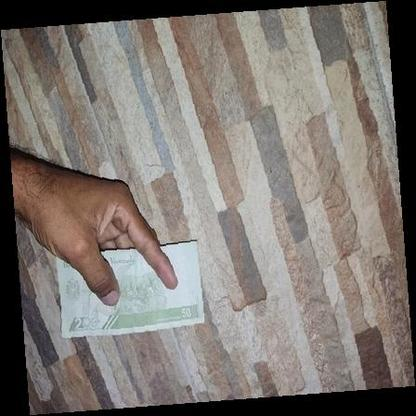fifty-back-vef: (56, 240, 204, 338)
